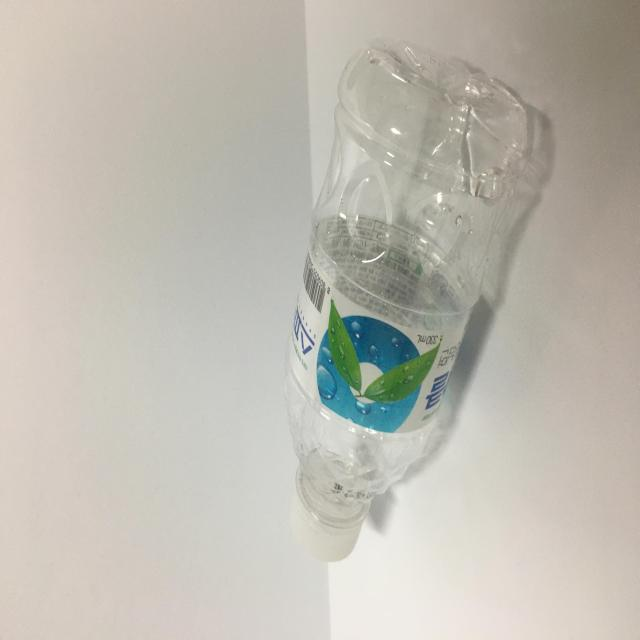bottle: (287, 40, 536, 566)
